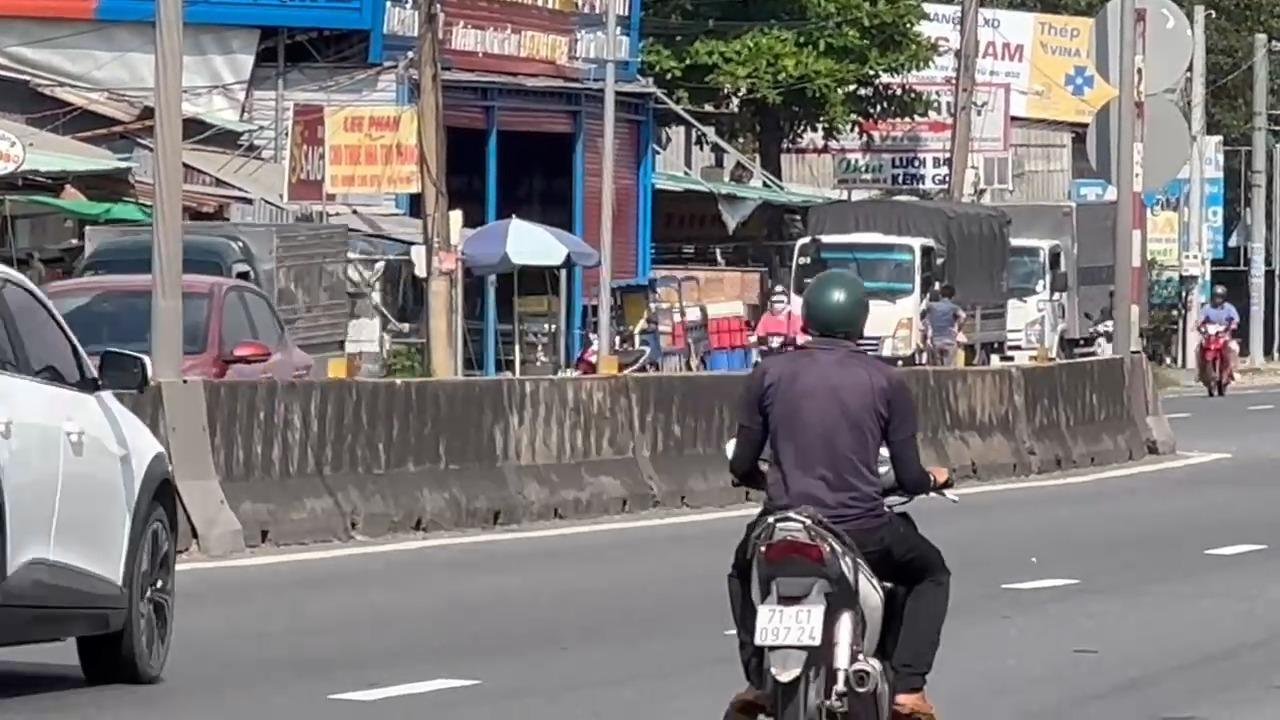bien_so: (752, 602, 824, 648)
